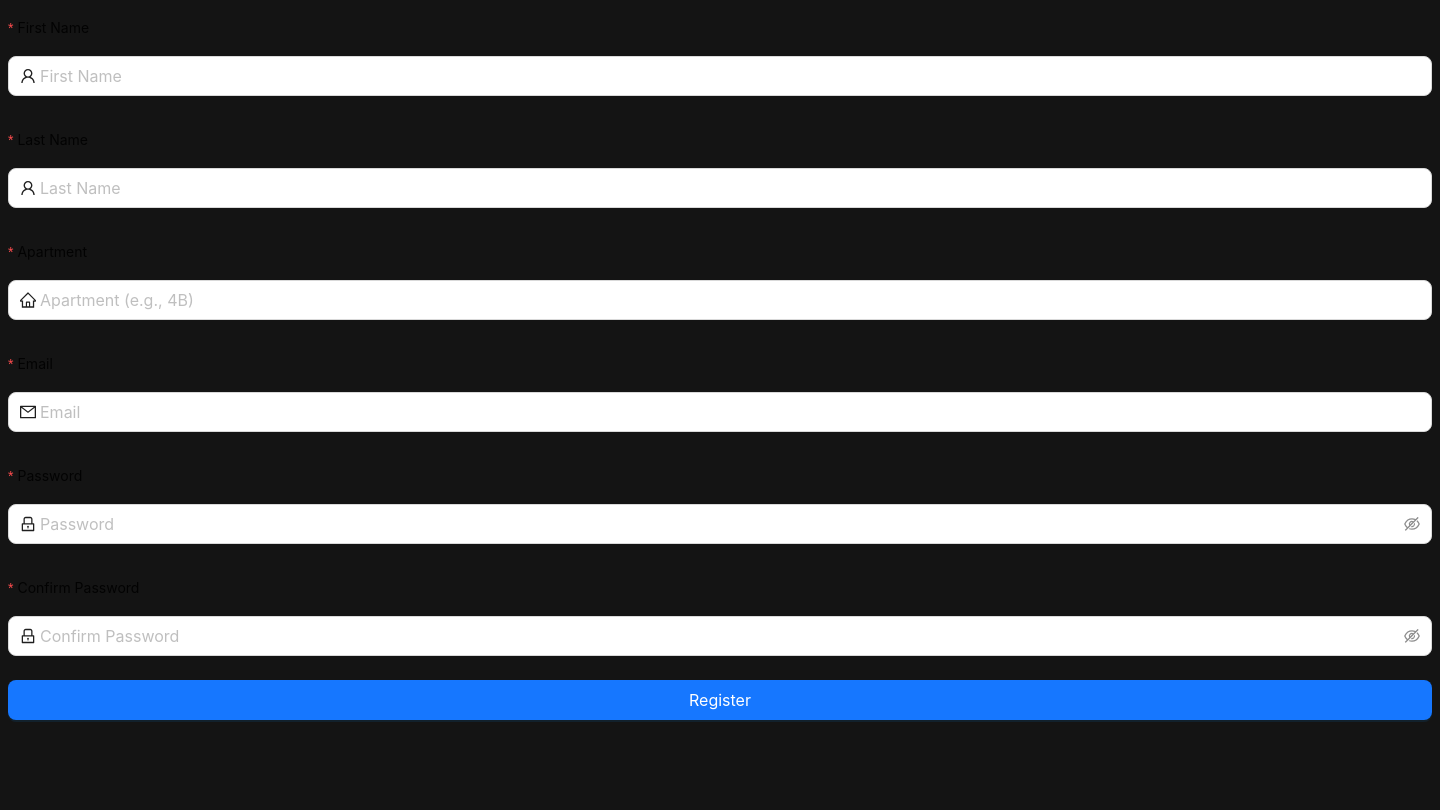
Test: RegisterForm › should show an error for password mismatch
Type "Password123" into the password field labelled "Password" at (720, 524), box left=40, top=512, right=1400, bottom=536
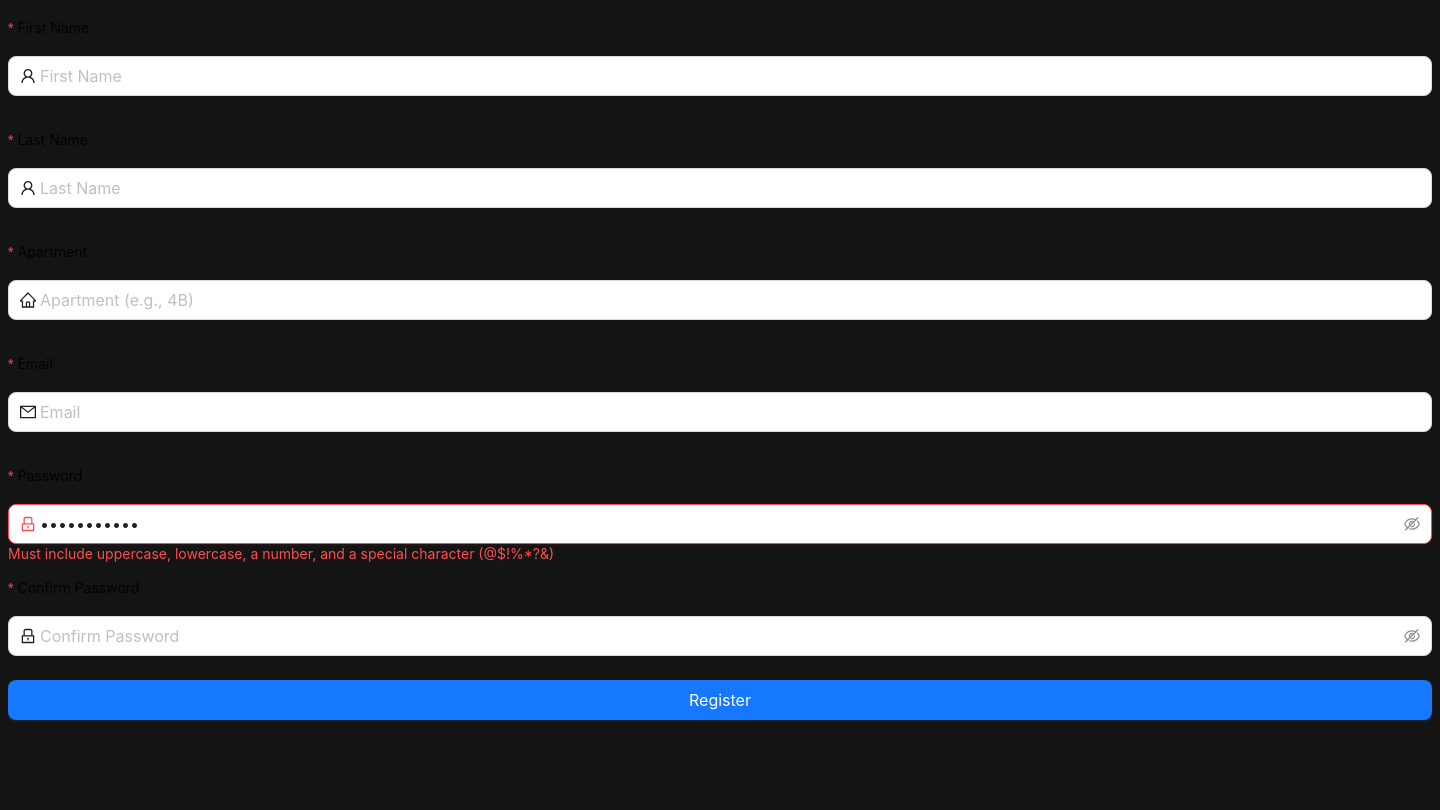
Type "Different456" into the password field labelled "Confirm Password" at (720, 636), box left=40, top=624, right=1400, bottom=648
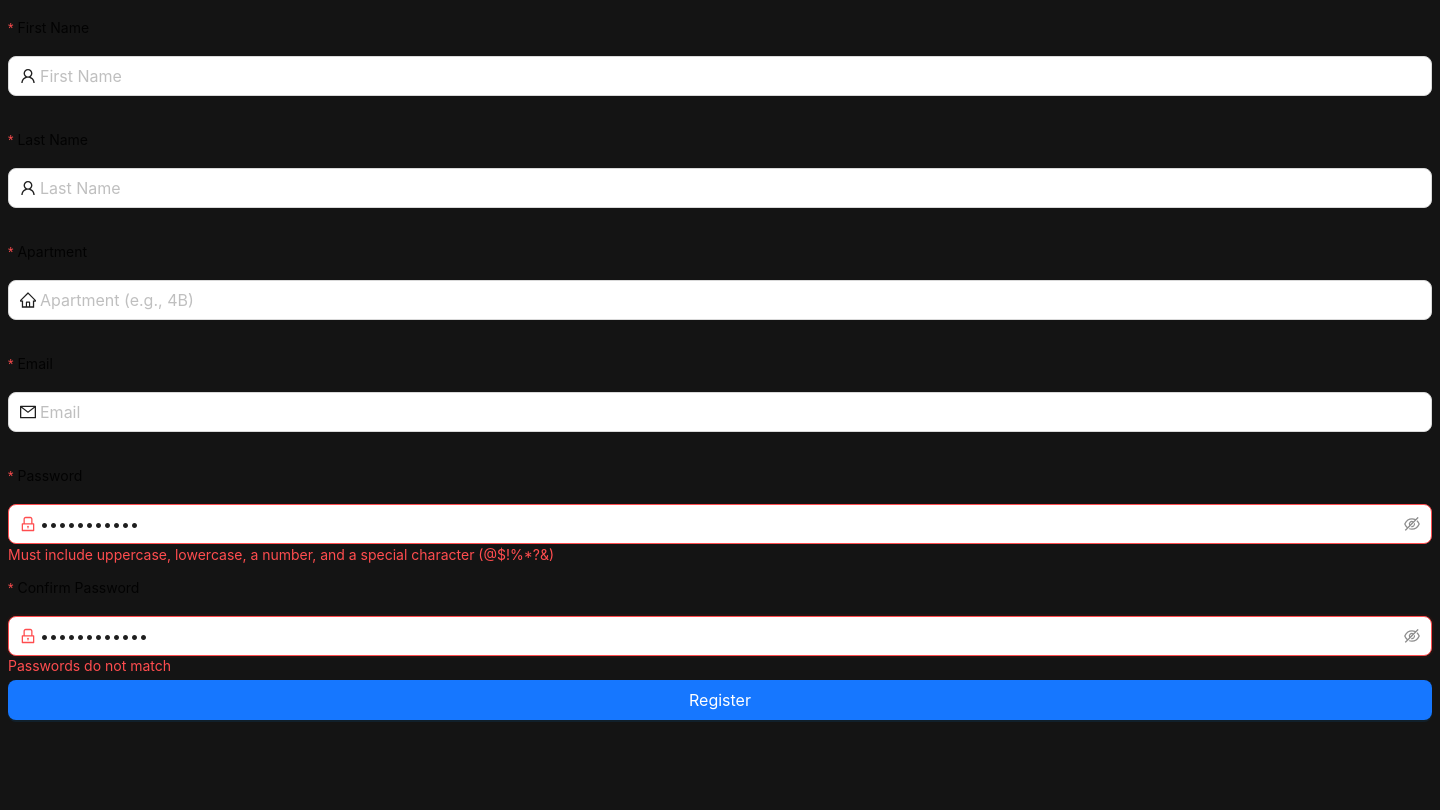
Click the button "Register" at (720, 700), box left=8, top=680, right=1432, bottom=720
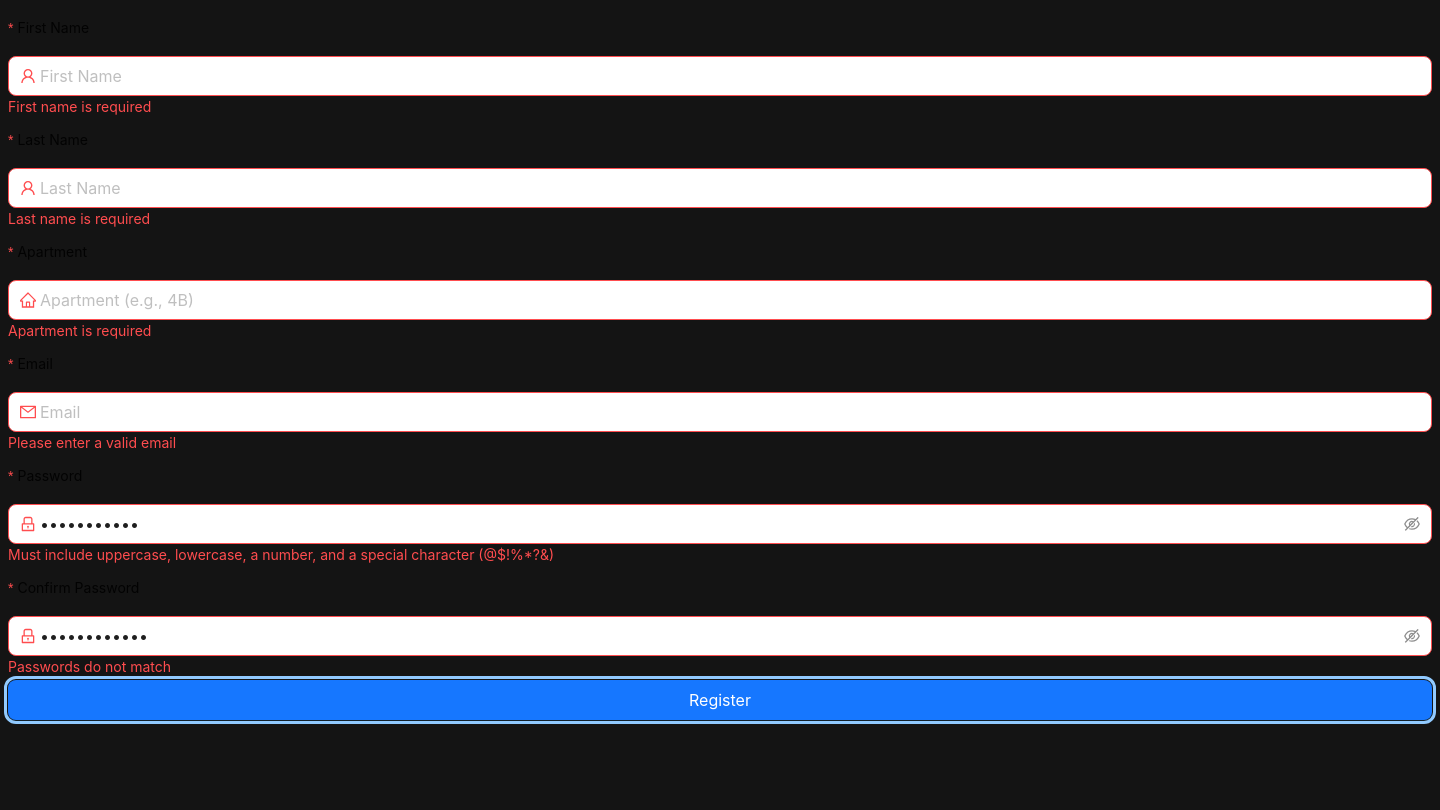
Expected: the text "Passwords do not match" is shown, left=8, top=658, right=171, bottom=675
